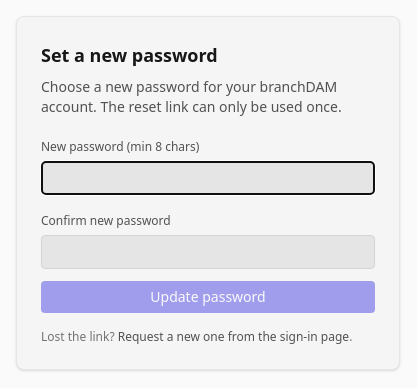
Test case: PasswordResetPage › renders the success panel after a successful submit
Type "new-secret-1" into the password field labelled "New password (min 8 chars)" at (208,178), box x1=41 y1=161 x2=375 y2=195
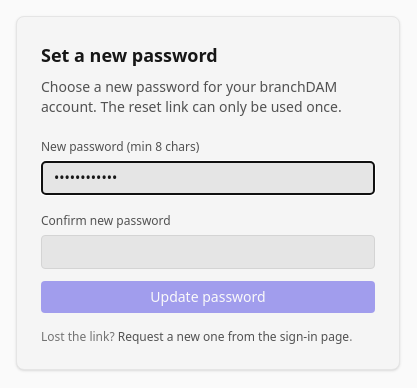
Type "new-secret-1" into the password field labelled "Confirm new password" at (208,252), box x1=41 y1=235 x2=375 y2=269
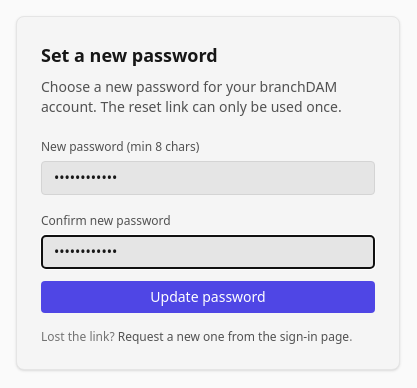
Click the button "Update password" at (208,297), box x1=41 y1=281 x2=375 y2=313
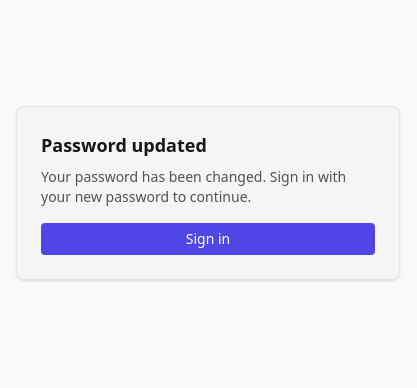
expect the heading "Password updated" is shown: met, box x1=41 y1=133 x2=207 y2=157
